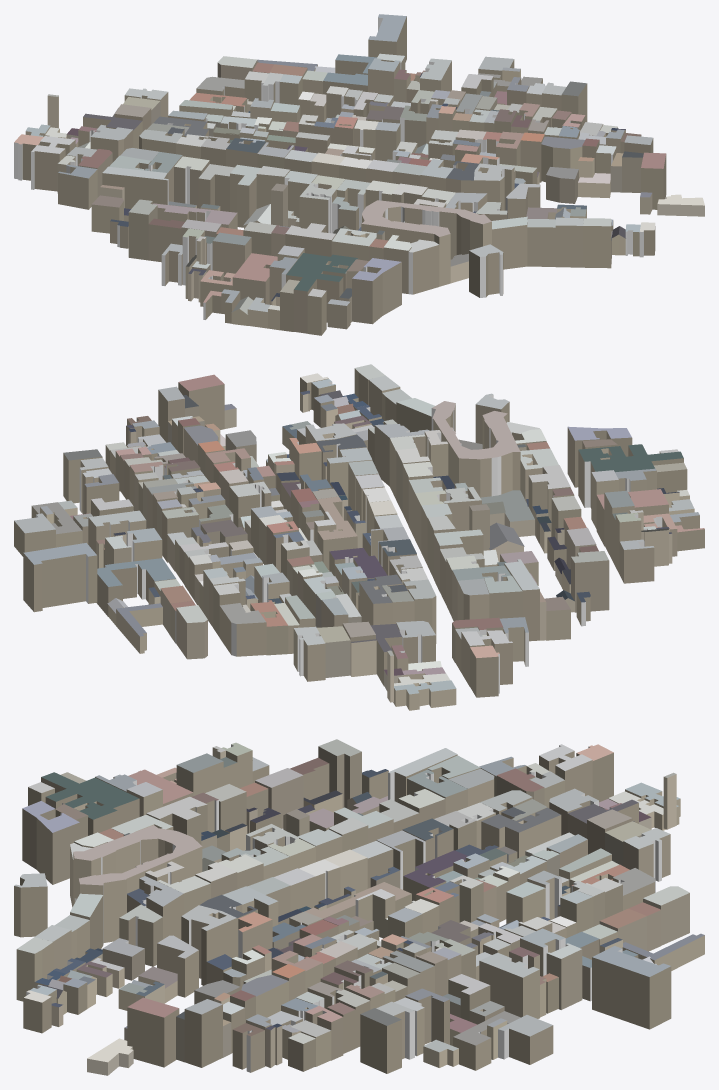
3 views of the same model, one above another, from view 1: azimuth 30°, elevation 25°; view 2: azimuth 150°, elevation 25°; view 3: azimuth 270°, elevation 25° (orthographic). The views are drawn at different scales.
Visible parts, largest first — view 1: tuile; view 2: tuile; view 3: tuile.
Part boxes in pixels (left/top/right/bottom): tuile: left=14, top=14, right=704, bottom=335; tuile: left=14, top=364, right=704, bottom=710; tuile: left=14, top=739, right=704, bottom=1075.
Bounding box in the file's own units: 265 × 27.17 × 269.
